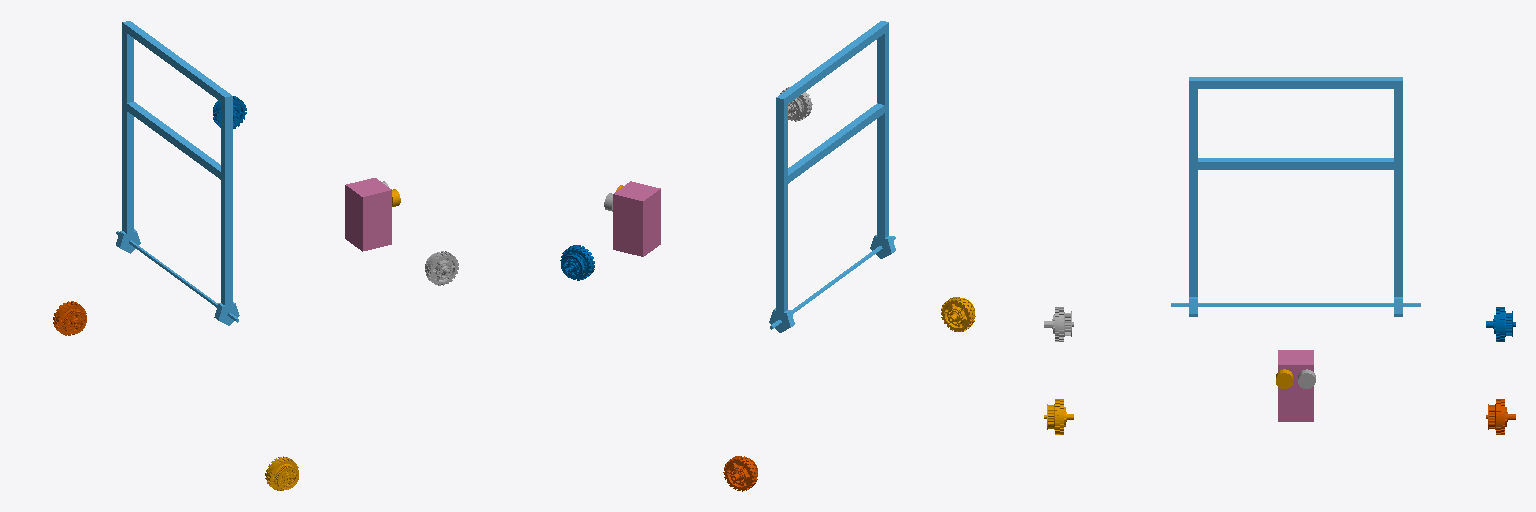
URDF robot description (phoenixbot):
<?xml version="1.0" ?>
<!-- =================================================================================== -->
<!-- |    This document was autogenerated by xacro from phoenixbot.urdf.xacro          | -->
<!-- |    EDITING THIS FILE BY HAND IS NOT RECOMMENDED                                 | -->
<!-- =================================================================================== -->
<robot name="phoenixbot" xmlns:xacro="http://www.ros.org/wiki/xacro">
  <gazebo>
    <plugin filename="libgazebo_ros_control.so" name="gazebo_ros_control">
      <robotSimType>gazebo_ros_control/DefaultRobotHWSim</robotSimType>
    </plugin>
  </gazebo>
  <gazebo>
    <plugin filename="libgazebo_ros_imu.so" name="imu_plugin">
      <alwaysOn>true</alwaysOn>
      <bodyName>base_link</bodyName>
      <topicName>imu_data</topicName>
      <serviceName>imu_service</serviceName>
      <gaussianNoise>0.0</gaussianNoise>
      <updateRate>20.0</updateRate>
    </plugin>
  </gazebo>
  <gazebo reference="laser_link">
    <sensor name="laser" type="ray">
      <pose>0 0 0 0 0 0</pose>
      <visualize>true</visualize>
      <update_rate>40</update_rate>
      <ray>
        <scan>
          <horizontal>
            <samples>720</samples>
            <resolution>1</resolution>
            <min_angle>-1.570796</min_angle>
            <max_angle>1.570796</max_angle>
          </horizontal>
        </scan>
        <range>
          <min>0.5</min>
          <max>30.0</max>
          <resolution>0.01</resolution>
        </range>
        <noise>
          <type>gaussian</type>
          <mean>0.0</mean>
          <stddev>0.01</stddev>
        </noise>
      </ray>
      <plugin filename="libgazebo_ros_laser.so" name="gazebo_ros_laser_controller">
        <topicName>/scan</topicName>
        <frameName>laser_link</frameName>
      </plugin>
    </sensor>
  </gazebo>
  <gazebo reference="camera">
    <sensor name="camera" type="camera">
      <update_rate>30.0</update_rate>
      <camera name="camera">
        <horizontal_fov>1.3962634</horizontal_fov>
        <image>
          <width>800</width>
          <height>600</height>
          <format>R8G8B8</format>
        </image>
        <clip>
          <near>0.02</near>
          <far>300</far>
        </clip>
        <noise>
          <type>gaussian</type>
          <mean>0.0</mean>
          <stddev>0.007</stddev>
        </noise>
      </camera>
      <plugin filename="libgazebo_ros_camera.so" name="camera_controller">
        <alwaysOn>true</alwaysOn>
        <updateRate>0.0</updateRate>
        <cameraName>phoenixbot/front_camera</cameraName>
        <imageTopicName>image_raw</imageTopicName>
        <cameraInfoTopicName>camera_info</cameraInfoTopicName>
        <frameName>camera</frameName>
        <hackBaseline>0.07</hackBaseline>
        <distortionK1>0.0</distortionK1>
        <distortionK2>0.0</distortionK2>
        <distortionK3>0.0</distortionK3>
        <distortionT1>0.0</distortionT1>
        <distortionT2>0.0</distortionT2>
      </plugin>
    </sensor>
  </gazebo>
  <link name="base_link"/>
  <link name="base_footprint"/>
  <joint name="base_link_joint" type="fixed">
    <parent link="base_link"/>
    <child link="chassis"/>
    <origin xyz="0 0 0.0254"/>
  </joint>
  <joint name="base_footprint_joint" type="fixed">
    <parent link="base_link"/>
    <child link="base_footprint"/>
    <origin xyz="0 0 0"/>
  </joint>
  <link name="chassis">
    <visual>
      <origin rpy="1.57079632679 0 1.57079632679"/>
      <geometry>
        <mesh filename="package://phoenixbot_description/meshes/phoenixbotbody.stl" scale="0.01 0.01 0.01"/>
        <!--<box size="${28.31 * IN} ${27.50 * IN} ${3.33 * IN}"/>-->
      </geometry>
    </visual>
    <collision>
      <geometry>
        <box size="0.719074 0.6985 0.084582"/>
      </geometry>
    </collision>
    <inertial>
      pi
            
      <mass value="6.80388"/>
      <inertia ixx="0.297228366542" ixy="0" ixz="0" iyy="0.569807751762" iyz="0" izz="0.280692008235"/>
    </inertial>
  </link>
  <link name="left_wheel">
    <visual>
      <origin rpy="0 0 1.57079632679"/>
      <geometry>
        <mesh filename="package://phoenixbot_description/meshes/middle2.stl" scale="0.01 0.01 0.01"/>
        <!--<cylinder length="${1 * IN}" radius="${2 * IN}"/>-->
      </geometry>
    </visual>
    <collision>
      <origin rpy="1.57079632679 0 0"/>
      <geometry>
        <cylinder length="0.0254" radius="0.0508"/>
      </geometry>
    </collision>
    <inertial>
      <mass value="0.14061352"/>
      <inertia ixx="9.82780701101e-05" ixy="0" ixz="0" iyy="9.82780701101e-05" iyz="0" izz="9.82780701101e-05"/>
    </inertial>
  </link>
  <link name="left_fwheel">
    <visual>
      <origin rpy="0 0 1.57079632679"/>
      <geometry>
        <mesh filename="package://phoenixbot_description/meshes/top2.stl" scale="0.01 0.01 0.01"/>
        <!--<cylinder length="${1 * IN}" radius="${2 * IN}"/>-->
      </geometry>
    </visual>
    <collision>
      <origin rpy="1.57079632679 0 0"/>
      <geometry>
        <cylinder length="0.0254" radius="0.0508"/>
      </geometry>
    </collision>
    <inertial>
      <mass value="0.14061352"/>
      <inertia ixx="9.82780701101e-05" ixy="0" ixz="0" iyy="9.82780701101e-05" iyz="0" izz="9.82780701101e-05"/>
    </inertial>
  </link>
  <link name="left_rwheel">
    <visual>
      <origin rpy="0 0 1.57079632679"/>
      <geometry>
        <mesh filename="package://phoenixbot_description/meshes/bottom2.stl" scale="0.01 0.01 0.01"/>
        <!--<cylinder length="${1 * IN}" radius="${2 * IN}"/>-->
      </geometry>
    </visual>
    <collision>
      <origin rpy="1.57079632679 0 0"/>
      <geometry>
        <cylinder length="0.0254" radius="0.0508"/>
      </geometry>
    </collision>
    <inertial>
      <mass value="0.14061352"/>
      <inertia ixx="9.82780701101e-05" ixy="0" ixz="0" iyy="9.82780701101e-05" iyz="0" izz="9.82780701101e-05"/>
    </inertial>
  </link>
  <joint name="left_wheel_joint" type="continuous">
    <axis xyz="0 1 0"/>
    <origin xyz="0 0.325628 0"/>
    <parent link="base_link"/>
    <child link="left_wheel"/>
  </joint>
  <joint name="left_fwheel_joint" type="continuous">
    <axis xyz="0 1 0"/>
    <origin xyz="0.272542 0.325628 0.00635"/>
    <parent link="base_link"/>
    <child link="left_fwheel"/>
    <mimic joint="left_wheel_joint"/>
  </joint>
  <joint name="left_rwheel_joint" type="continuous">
    <axis xyz="0 1 0"/>
    <origin xyz="-0.272542 0.325628 0.00635"/>
    <parent link="base_link"/>
    <child link="left_rwheel"/>
    <mimic joint="left_wheel_joint"/>
  </joint>
  <transmission name="left_wheel_transmission">
    <type>transmission_interface/SimpleTransmission</type>
    <joint name="left_wheel_joint">
      <hardwareInterface>hardware_interface/VelocityJointInterface</hardwareInterface>
    </joint>
    <actuator name="left_motor">
      <hardwareInterface>hardware_interface/VelocityJointInterface</hardwareInterface>
      <mechanicalReduction>1</mechanicalReduction>
    </actuator>
  </transmission>
  <link name="right_wheel">
    <visual>
      <origin rpy="0 0 1.57079632679"/>
      <geometry>
        <mesh filename="package://phoenixbot_description/meshes/middle1.stl" scale="0.01 0.01 0.01"/>
        <!--<cylinder length="${1 * IN}" radius="${2 * IN}"/>-->
      </geometry>
    </visual>
    <collision>
      <origin rpy="1.57079632679 0 0"/>
      <geometry>
        <cylinder length="0.0254" radius="0.0508"/>
      </geometry>
    </collision>
    <inertial>
      <mass value="0.14061352"/>
      <inertia ixx="9.82780701101e-05" ixy="0" ixz="0" iyy="9.82780701101e-05" iyz="0" izz="9.82780701101e-05"/>
    </inertial>
  </link>
  <link name="right_fwheel">
    <visual>
      <origin rpy="0 0 1.57079632679"/>
      <geometry>
        <mesh filename="package://phoenixbot_description/meshes/top1.stl" scale="0.01 0.01 0.01"/>
        <!--<cylinder length="${1 * IN}" radius="${2 * IN}"/>-->
      </geometry>
    </visual>
    <collision>
      <origin rpy="1.57079632679 0 0"/>
      <geometry>
        <cylinder length="0.0254" radius="0.0508"/>
      </geometry>
    </collision>
    <inertial>
      <mass value="0.14061352"/>
      <inertia ixx="9.82780701101e-05" ixy="0" ixz="0" iyy="9.82780701101e-05" iyz="0" izz="9.82780701101e-05"/>
    </inertial>
  </link>
  <link name="right_rwheel">
    <visual>
      <origin rpy="0 0 1.57079632679"/>
      <geometry>
        <mesh filename="package://phoenixbot_description/meshes/bottom1.stl" scale="0.01 0.01 0.01"/>
        <!--<cylinder length="${1 * IN}" radius="${2 * IN}"/>-->
      </geometry>
    </visual>
    <collision>
      <origin rpy="1.57079632679 0 0"/>
      <geometry>
        <cylinder length="0.0254" radius="0.0508"/>
      </geometry>
    </collision>
    <inertial>
      <mass value="0.14061352"/>
      <inertia ixx="9.82780701101e-05" ixy="0" ixz="0" iyy="9.82780701101e-05" iyz="0" izz="9.82780701101e-05"/>
    </inertial>
  </link>
  <joint name="right_wheel_joint" type="continuous">
    <axis xyz="0 1 0"/>
    <origin xyz="0 -0.325628 0"/>
    <parent link="base_link"/>
    <child link="right_wheel"/>
  </joint>
  <joint name="right_fwheel_joint" type="continuous">
    <axis xyz="0 1 0"/>
    <origin xyz="0.272542 -0.325628 0.00635"/>
    <parent link="base_link"/>
    <child link="right_fwheel"/>
    <mimic joint="right_wheel_joint"/>
  </joint>
  <joint name="right_rwheel_joint" type="continuous">
    <axis xyz="0 1 0"/>
    <origin xyz="-0.272542 -0.325628 0.00635"/>
    <parent link="base_link"/>
    <child link="right_rwheel"/>
    <mimic joint="right_wheel_joint"/>
  </joint>
  <transmission name="right_wheel_transmission">
    <type>transmission_interface/SimpleTransmission</type>
    <joint name="right_wheel_joint">
      <hardwareInterface>hardware_interface/VelocityJointInterface</hardwareInterface>
    </joint>
    <actuator name="right_motor">
      <hardwareInterface>hardware_interface/VelocityJointInterface</hardwareInterface>
      <mechanicalReduction>1</mechanicalReduction>
    </actuator>
  </transmission>
  <link name="simon_arm">
    <visual>
      <origin rpy="0 0 0"/>
      <geometry>
        <mesh filename="package://phoenixbot_description/meshes/simonArm.stl"/>
      </geometry>
    </visual>
    <collision>
      <origin xyz="-0.3556 0 0"/>
      <geometry>
        <box size="0.7493 0.6096 0.0762"/>
      </geometry>
    </collision>
    <inertial>
      <mass value="1.814368"/>
      <inertia ixx="0.297228366542" ixy="0" ixz="0" iyy="0.569807751762" iyz="0" izz="0.280692008235"/>
    </inertial>
  </link>
  <link name="solenoid1"/>
  <link name="solenoid2"/>
  <link name="solenoid3"/>
  <link name="solenoid4"/>
  <joint name="solenoid1_joint" type="fixed">
    <parent link="simon_arm"/>
    <child link="solenoid1"/>
    <origin xyz="-0.7112 -0.127 0"/>
  </joint>
  <joint name="solenoid2_joint" type="fixed">
    <parent link="simon_arm"/>
    <child link="solenoid2"/>
    <origin xyz="-0.7112 0.127 0"/>
  </joint>
  <joint name="solenoid3_joint" type="fixed">
    <parent link="simon_arm"/>
    <child link="solenoid3"/>
    <origin xyz="-0.4572 0.127 0"/>
  </joint>
  <joint name="solenoid4_joint" type="fixed">
    <parent link="simon_arm"/>
    <child link="solenoid4"/>
    <origin xyz="-0.4572 -0.127 0"/>
  </joint>
  <joint name="simon_arm_joint" type="revolute">
    <axis xyz="0 1 0"/>
    <origin rpy="0 1.57079632679 0" xyz="-0.272542 0 0.0762"/>
    <parent link="chassis"/>
    <child link="simon_arm"/>
    <limit effort="20.0" lower="0" upper="1.57" velocity="1.6"/>
  </joint>
  <transmission name="simon_arm_transmission">
    <type>transmission_interface/SimpleTransmission</type>
    <joint name="simon_arm_joint">
      <hardwareInterface>hardware_interface/VelocityJointInterface</hardwareInterface>
    </joint>
    <actuator name="simon_motor">
      <hardwareInterface>hardware_interface/VelocityJointInterface</hardwareInterface>
      <mechanicalReduction>1</mechanicalReduction>
    </actuator>
  </transmission>
  <joint name="pulley_joint" type="fixed">
    <parent link="chassis"/>
    <child link="pulley_center"/>
    <origin xyz="0.4318 0 0.1778"/>
  </joint>
  <link name="pulley_center">
    <visual>
      <origin xyz="-0.0508 0 -0.0508"/>
      <geometry>
        <box size="0.1016 0.1016 0.1778"/>
      </geometry>
    </visual>
    <collision>
      <origin xyz="-0.0508 0 -0.0508"/>
      <geometry>
        <box size="0.1016 0.1016 0.1778"/>
      </geometry>
    </collision>
    <inertial>
      <mass value="0.14061352"/>
      <inertia ixx="3.02394061877e-05" ixy="0" ixz="0" iyy="3.02394061877e-05" iyz="0" izz="3.02394061877e-05"/>
    </inertial>
  </link>
  <link name="left_rope_wheel">
    <visual>
      <origin rpy="1.57079632679 0 1.57079632679" xyz="0.0127 0 0"/>
      <geometry>
        <cylinder length="0.0254" radius="0.0254"/>
      </geometry>
    </visual>
    <collision>
      <origin rpy="1.57079632679 0 1.57079632679" xyz="0.0127 0 0"/>
      <geometry>
        <cylinder length="0.0254" radius="0.0254"/>
      </geometry>
    </collision>
    <inertial>
      <mass value="0.14061352"/>
      <inertia ixx="3.02394061877e-05" ixy="0" ixz="0" iyy="3.02394061877e-05" iyz="0" izz="3.02394061877e-05"/>
    </inertial>
  </link>
  <link name="right_rope_wheel">
    <visual>
      <origin rpy="1.57079632679 0 1.57079632679" xyz="0.0127 0 0"/>
      <geometry>
        <cylinder length="0.0254" radius="0.0254"/>
      </geometry>
    </visual>
    <collision>
      <origin rpy="1.57079632679 0 1.57079632679" xyz="0.0127 0 0"/>
      <geometry>
        <cylinder length="0.0254" radius="0.0254"/>
      </geometry>
    </collision>
    <inertial>
      <mass value="0.14061352"/>
      <inertia ixx="3.02394061877e-05" ixy="0" ixz="0" iyy="3.02394061877e-05" iyz="0" izz="3.02394061877e-05"/>
    </inertial>
  </link>
  <joint name="rope_joint" type="continuous">
    <axis xyz="1 0 0"/>
    <origin xyz="0 0.03175 0"/>
    <parent link="pulley_center"/>
    <child link="left_rope_wheel"/>
  </joint>
  <joint name="rope_joint_slave" type="continuous">
    <axis xyz="1 0 0"/>
    <origin xyz="0 -0.03175 0"/>
    <parent link="pulley_center"/>
    <child link="right_rope_wheel"/>
    <mimic joint="rope_joint" multiplier="-1"/>
  </joint>
  <transmission name="rope_transmission">
    <type>transmission_interface/SimpleTransmission</type>
    <joint name="rope_joint">
      <hardwareInterface>hardware_interface/VelocityJointInterface</hardwareInterface>
    </joint>
    <actuator name="rope_motor">
      <hardwareInterface>hardware_interface/VelocityJointInterface</hardwareInterface>
      <mechanicalReduction>1</mechanicalReduction>
    </actuator>
  </transmission>
  <link name="camera"/>
  <joint name="camera_joint" type="fixed">
    <parent link="base_link"/>
    <child link="camera"/>
    <origin rpy="0 -0.1 0" xyz="0.123825 -0.365125 0.358775"/>
  </joint>
  <link name="imu_base_link"/>
  <joint name="imu_joint" type="fixed">
    <parent link="base_link"/>
    <child link="imu_base_link"/>
    <origin xyz="0 0.0254 0"/>
  </joint>
  <link name="laser_link"/>
  <joint name="laser_joint" type="fixed">
    <parent link="base_link"/>
    <child link="laser_link"/>
    <origin xyz="0.272542 0 0.0762"/>
  </joint>
</robot>

--- Render facts (derived) ---
3 views of the same robot in one strip: view 1: azimuth 30°, elevation 25°; view 2: azimuth 150°, elevation 25°; view 3: azimuth 270°, elevation 25° (orthographic).
Model phoenixbot with 20 links and 19 joints (1 revolute, 8 continuous, 10 fixed), rooted at base_link, posed every joint at zero.
Visible links, largest first — view 1: simon_arm, pulley_center, right_fwheel, left_rwheel, right_rwheel; view 2: simon_arm, pulley_center, left_fwheel, left_rwheel, right_rwheel, right_fwheel; view 3: simon_arm, pulley_center, left_rwheel, right_rwheel, right_fwheel, left_fwheel.
Boxes of the visible links, x1,y1,x2,y2 form: simon_arm: [116, 21, 239, 325]; pulley_center: [345, 178, 391, 251]; right_fwheel: [425, 251, 458, 285]; left_rwheel: [53, 301, 86, 335]; right_rwheel: [265, 456, 298, 490]; simon_arm: [769, 21, 895, 332]; pulley_center: [613, 181, 660, 256]; left_fwheel: [560, 245, 594, 280]; left_rwheel: [723, 456, 757, 491]; right_rwheel: [941, 297, 975, 331]; right_fwheel: [780, 87, 812, 121]; simon_arm: [1171, 77, 1420, 316]; pulley_center: [1278, 350, 1313, 421]; left_rwheel: [1486, 399, 1515, 434]; right_rwheel: [1044, 399, 1073, 434]; right_fwheel: [1044, 307, 1073, 341]; left_fwheel: [1486, 307, 1515, 341].
Size in the robot's own frame: 0.8112 by 1.34 by 1.13 metres.
5 mesh visuals loaded from 8 distinct referenced files (5 binary STL); not drawn: 3 (reference not matched to a file when rendering).
